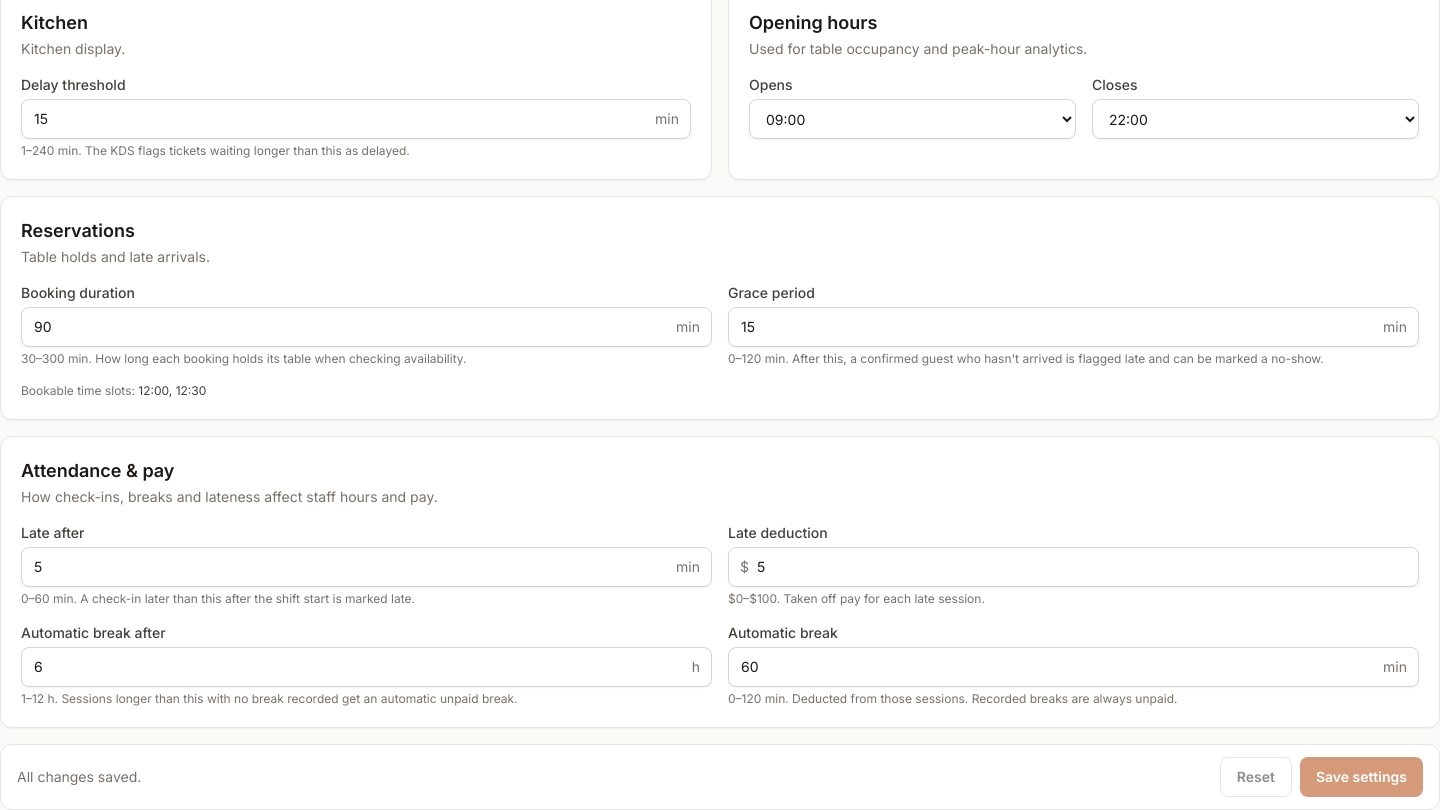
Test: SettingsForm › shows the Attendance & pay group and saves only those settings when only they changed
(page scrolled)
Check: the number field labelled "Late deduction" holds "5", box [728,547,1419,587]
Check: the number field labelled "Automatic break after" holds "6", box [21,647,712,687]
Replace the text in the number field labelled "Late after" with "10" at coordinates (366, 567), box [21,547,712,587]
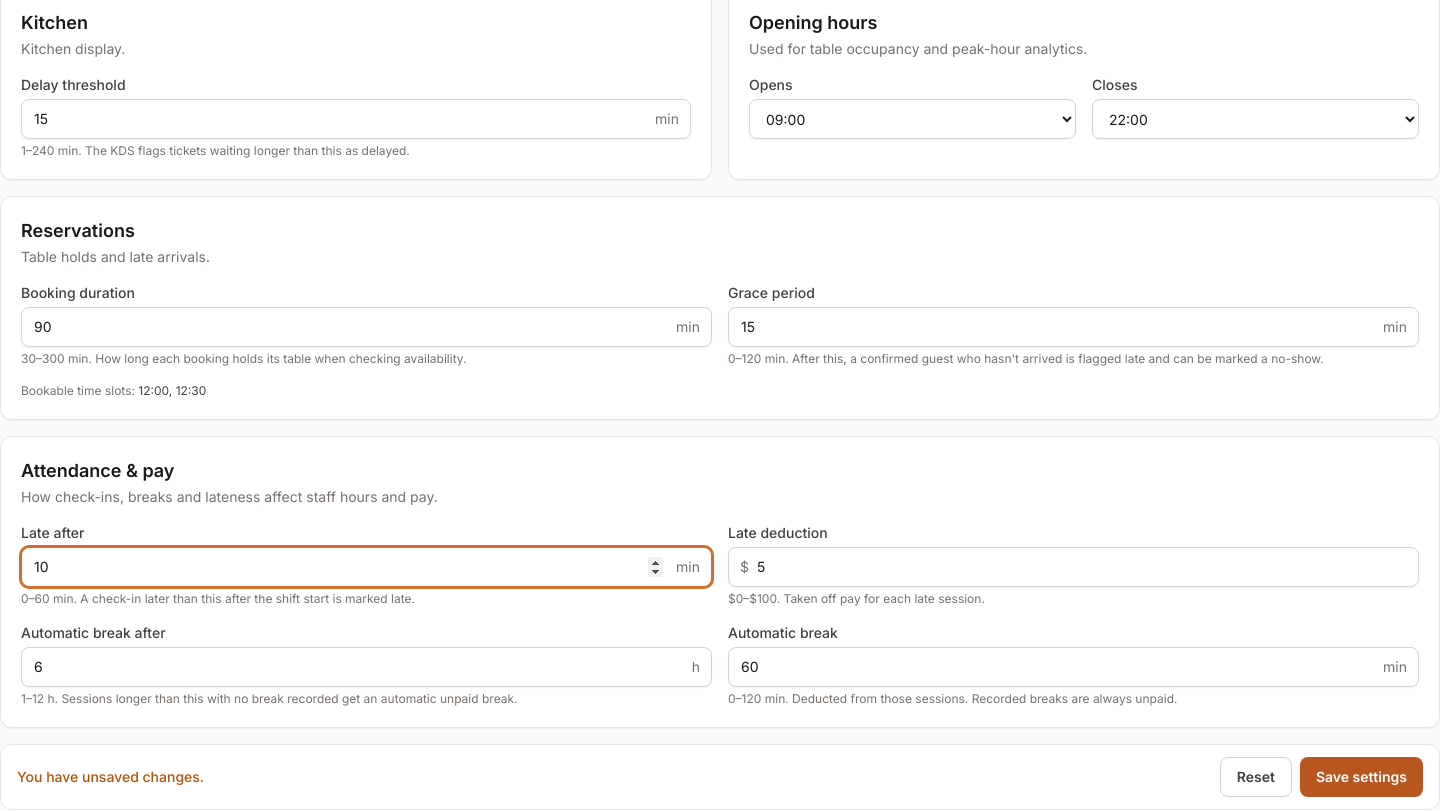
Click the button "Save settings".
click(1361, 777)  # box [1300,757,1423,797]
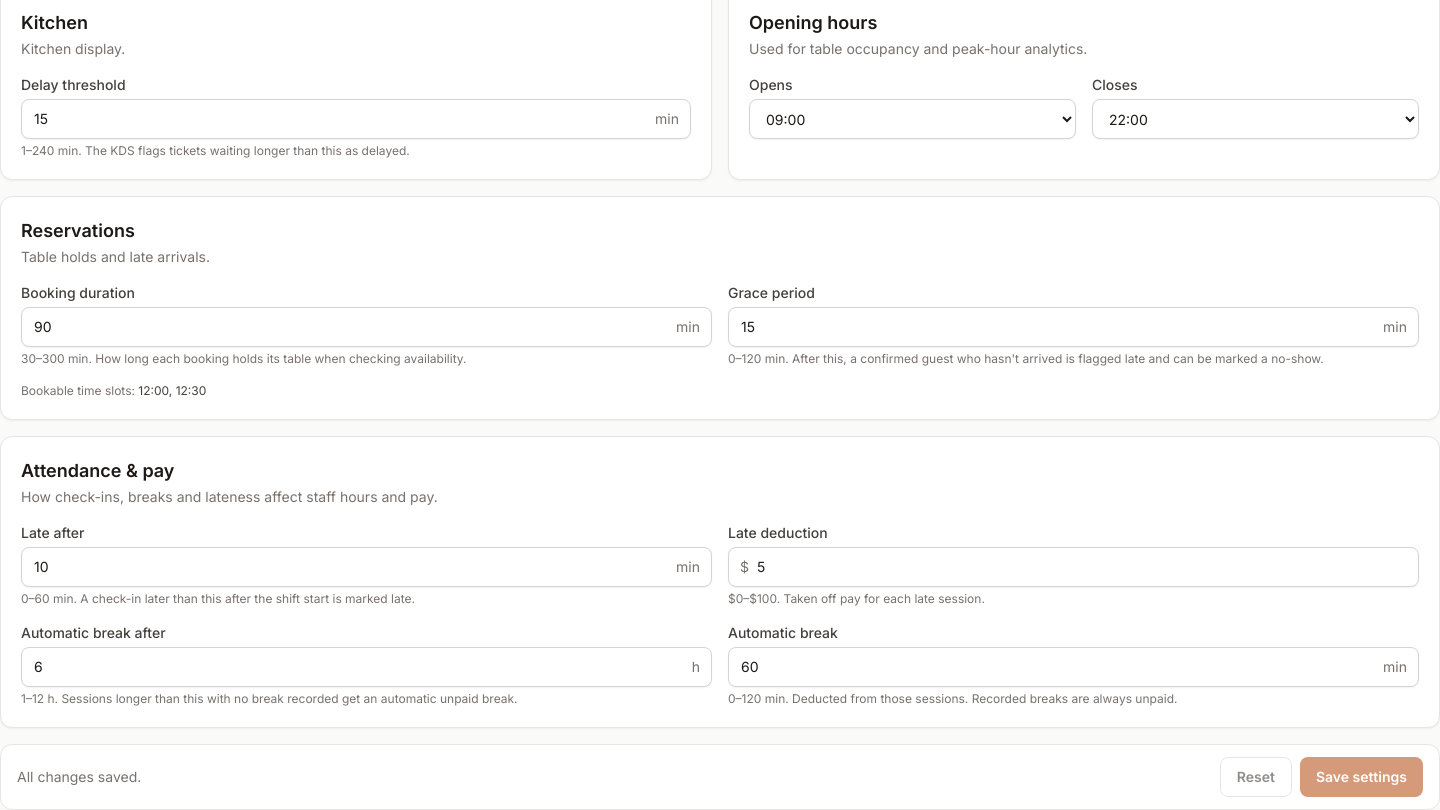
Check: the text "All changes saved." is shown, box [17,767,141,787]
